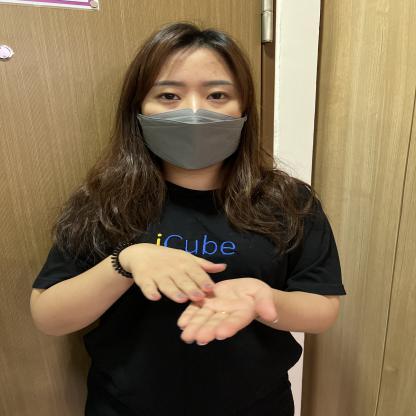Love: (104, 230, 330, 358)
